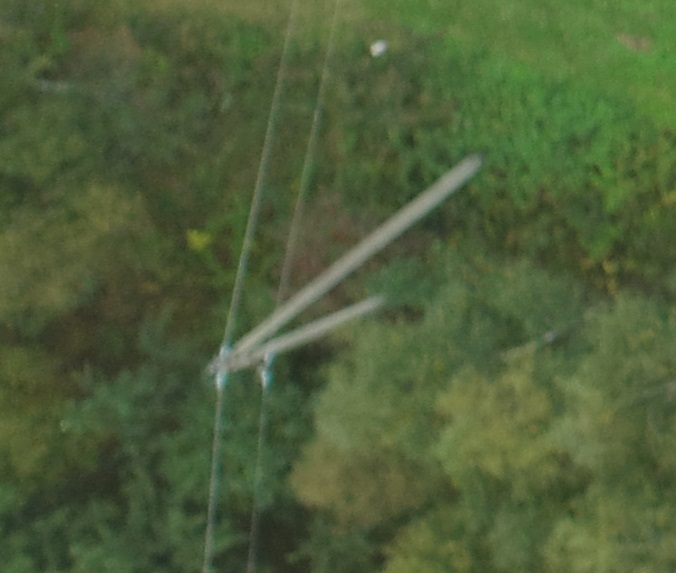opora: (202, 145, 484, 391)
